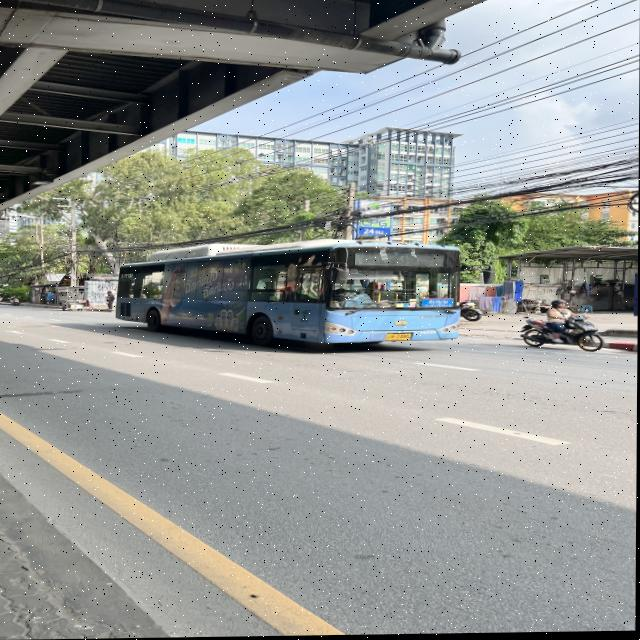BMTA-bus: (115, 240, 464, 353)
Bus-Line-Number: (418, 253, 446, 270)
Destination-Sign-Normal: (422, 300, 453, 309)
